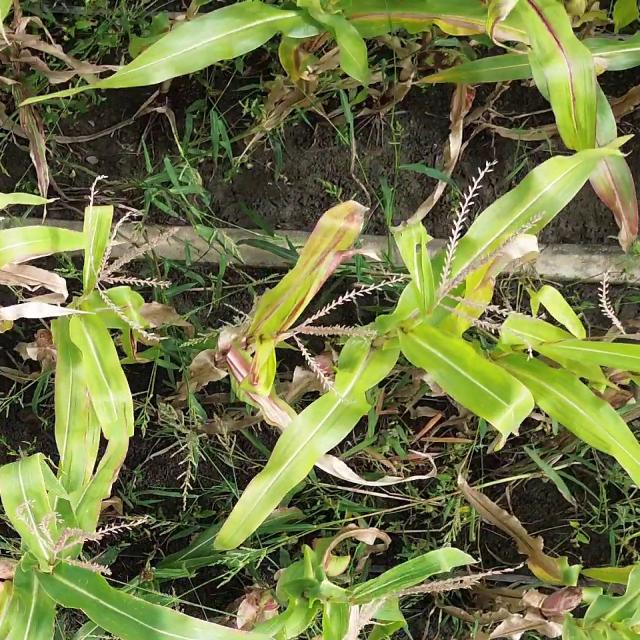gray-leaf-spot: (358, 565, 423, 601)
northern-leaf-blight: (347, 0, 504, 38)
